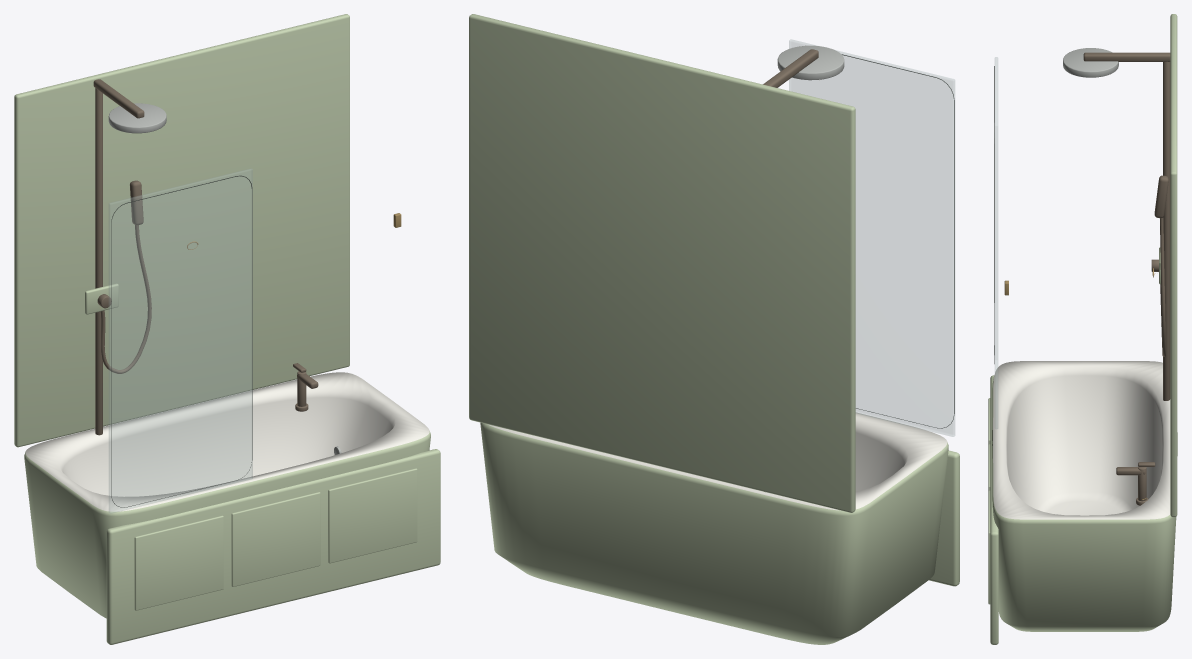
The model's file is bath-shower-combo.glb.
3 renders of one model, left to right at view 1: azimuth 30°, elevation 25°; view 2: azimuth 150°, elevation 25°; view 3: azimuth 270°, elevation 25°, orthographic. The views are drawn at different scales.
Parts seen in each view (by area): view 1: bath-shower-combo; view 2: bath-shower-combo; view 3: bath-shower-combo.
Boxes of the visible parts, <box> form: bath-shower-combo: <box>14,14,440,644</box>; bath-shower-combo: <box>469,14,959,644</box>; bath-shower-combo: <box>988,14,1177,644</box>.
Size of the model in its own units: 1.52 by 2.1 by 0.76.
